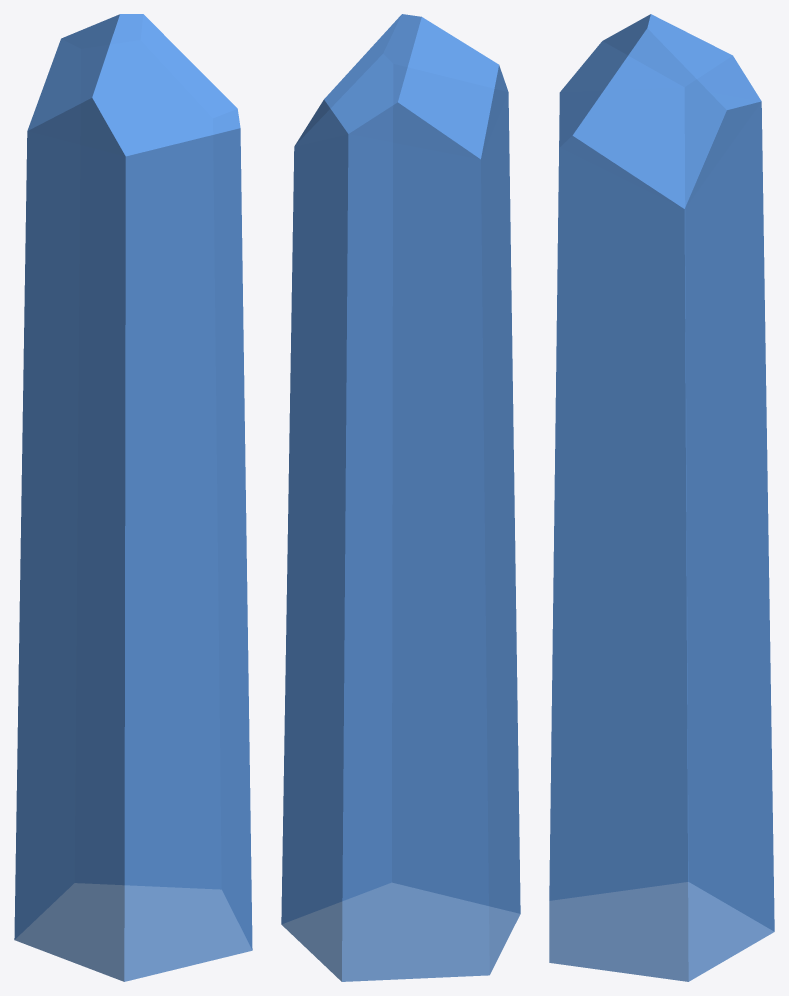
The model's file is Crystal_s_05.fbx.
The picture shows the model from 3 angles, left to right: view 1: azimuth 30°, elevation 25°; view 2: azimuth 150°, elevation 25°; view 3: azimuth 270°, elevation 25°; orthographic projection.
Parts seen in each view (by area): view 1: Crystal_s_05; view 2: Crystal_s_05; view 3: Crystal_s_05.
Part boxes in pixels (box(x1,y1,x2,y2)): Crystal_s_05: box(14, 14, 252, 981); Crystal_s_05: box(281, 14, 520, 981); Crystal_s_05: box(549, 14, 774, 981).
Size of the model in its own units: 18.19 by 77.04 by 17.3.
